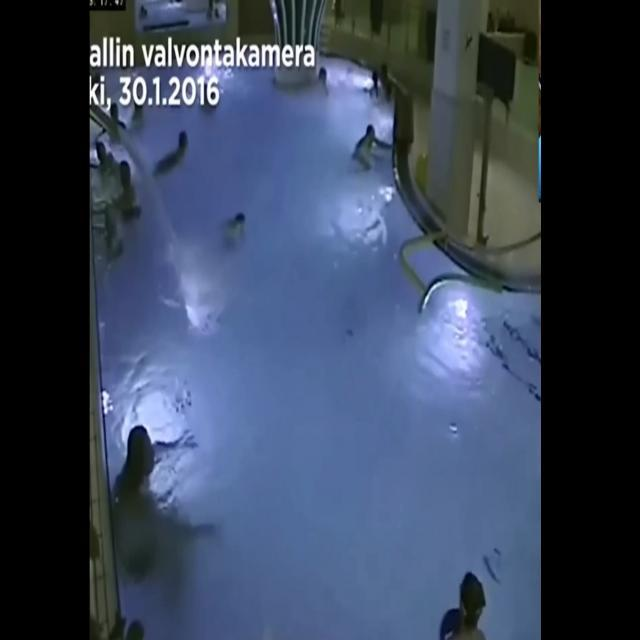Out of Water: (214, 206, 247, 254)
